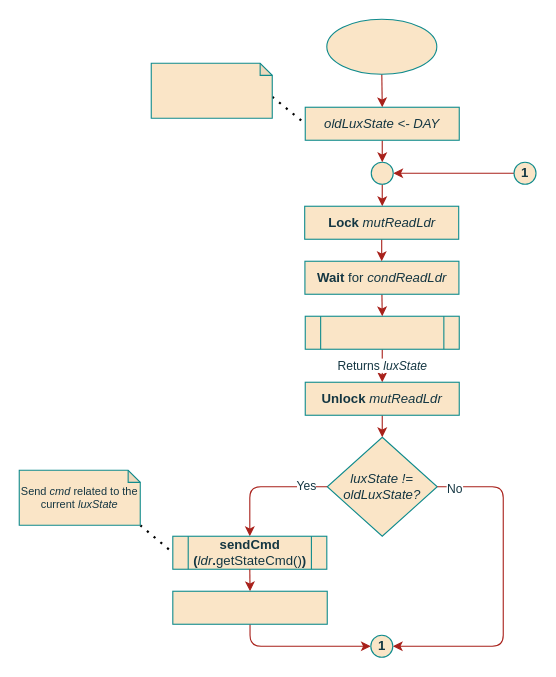
The diagram is 556 pixels wide and 677 high, and some of its shapes have lost their labels. The box of each missing label's shape, as (x1, y1, x2, y2) in pixels:
Create and initialize a LuxState type variable with a random state: (150, 62, 272, 118)
ldr. getLuxState(): (304, 315, 459, 349)
oldLuxState <- luxState: (172, 590, 327, 624)
tReadLdr: (326, 18, 437, 74)
